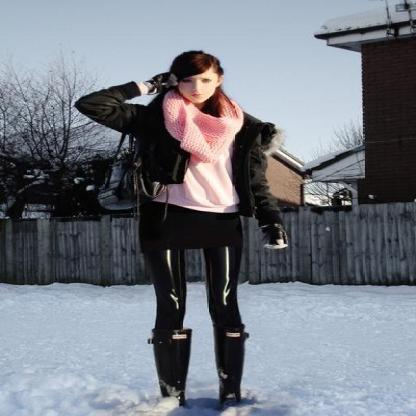jacket: (74, 81, 286, 241)
pants: (138, 199, 249, 336)
shirt: (153, 144, 257, 224)
shoe: (151, 327, 247, 407)
